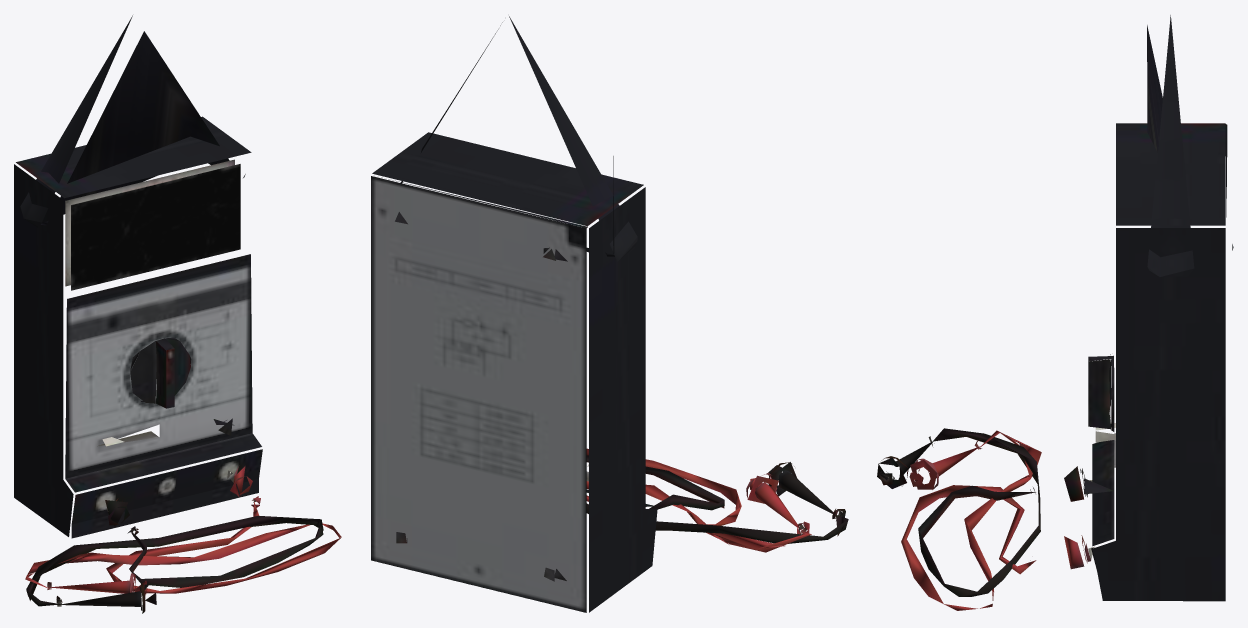
The model's file is multimeter.glb.
3 renders of one model, left to right at view 1: azimuth 30°, elevation 25°; view 2: azimuth 150°, elevation 25°; view 3: azimuth 270°, elevation 25°, orthographic. The views are drawn at different scales.
Visible parts, largest first — view 1: multimeter; view 2: multimeter; view 3: multimeter.
Boxes of the visible parts, bbox=[...] form: multimeter: bbox=[14, 15, 341, 613]; multimeter: bbox=[371, 16, 848, 612]; multimeter: bbox=[877, 15, 1233, 610].
Bounding box in the file's own units: 0.211 × 0.3149 × 0.1891.
2 materials, 2 textured.
